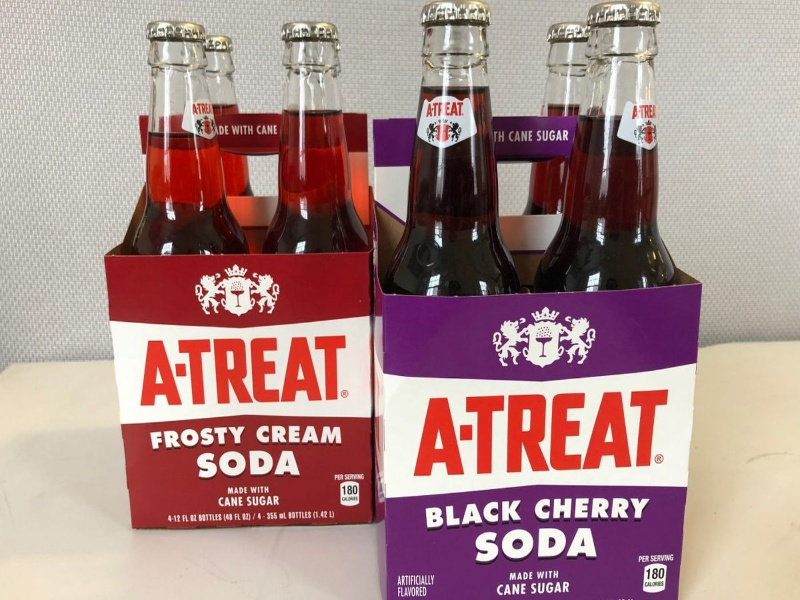Glass bottle: (371, 3, 533, 311), (563, 1, 695, 329), (251, 18, 381, 278), (102, 19, 242, 253), (503, 4, 603, 244), (187, 12, 267, 205)
